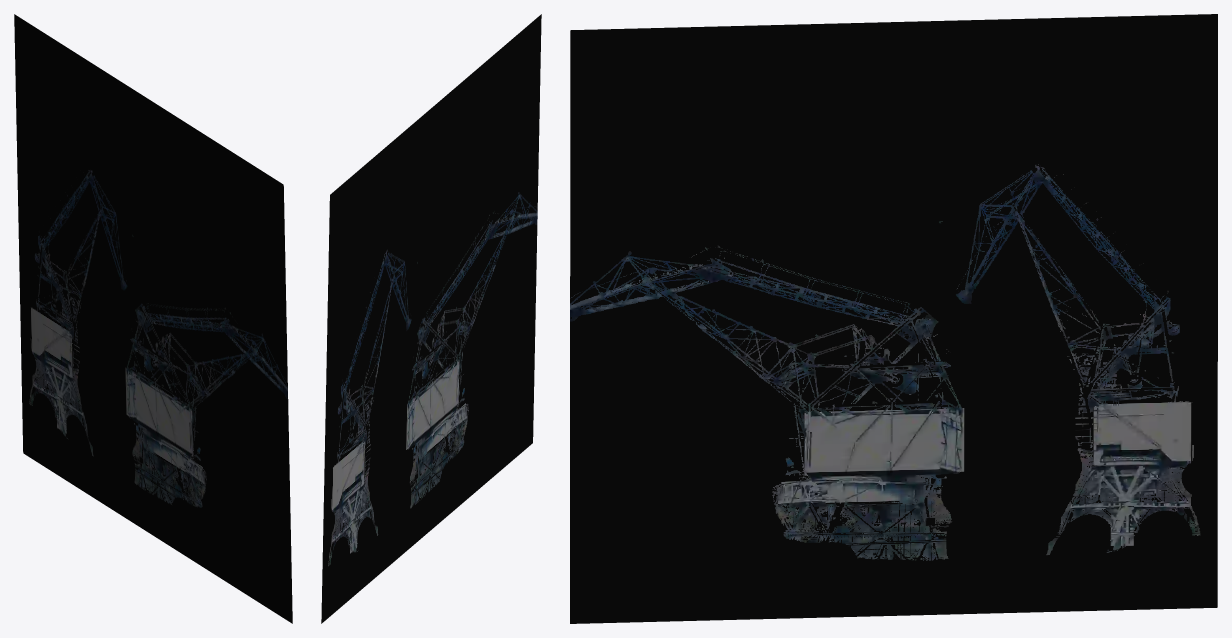
File: crane.gltf
3 renders of one model, left to right at view 1: azimuth 30°, elevation 25°; view 2: azimuth 150°, elevation 25°; view 3: azimuth 270°, elevation 25°, orthographic. The views are drawn at different scales.
Visible parts, largest first — view 1: Crane_vessel; view 2: Crane_vessel; view 3: Crane_vessel.
Part boxes in pixels (x1=…): Crane_vessel: x1=14, y1=14, x2=292, y2=623; Crane_vessel: x1=321, y1=14, x2=541, y2=623; Crane_vessel: x1=570, y1=14, x2=1217, y2=623.
Bounding box in the file's own units: 0.75 × 8.97 × 8.94.
1 material, 1 textured.
